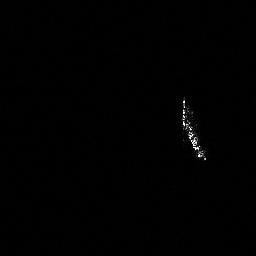ship: (177, 92, 211, 163)
